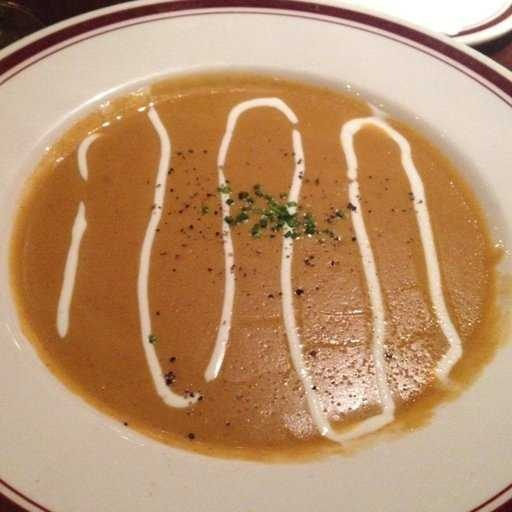soup: (8, 64, 492, 458)
